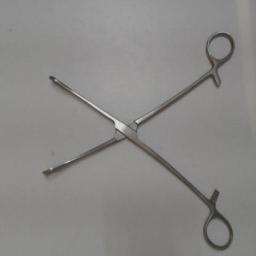Sponge Forceps: (36, 25, 240, 253)
